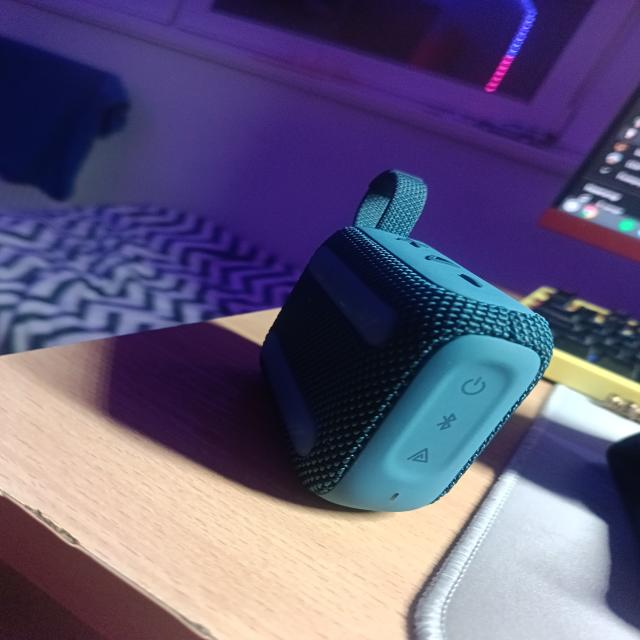column JBL: (255, 167, 555, 515), (603, 426, 640, 547)
